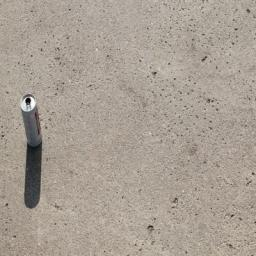FOD: (17, 90, 51, 212)
